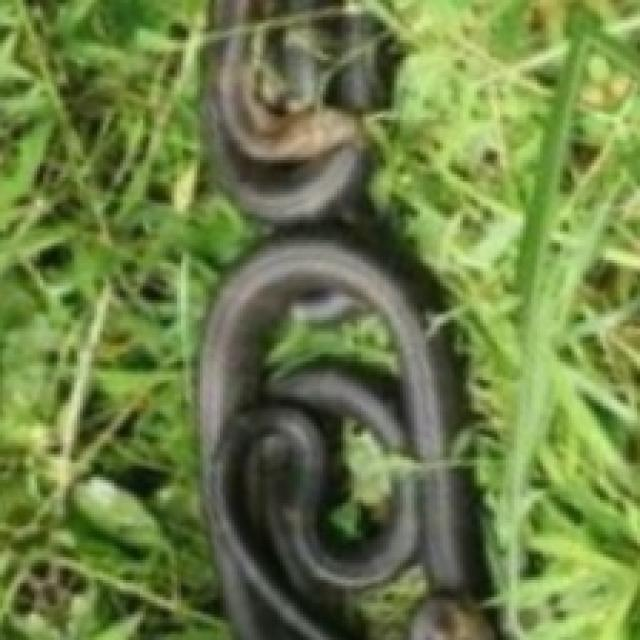king cobra: (200, 0, 497, 637)
